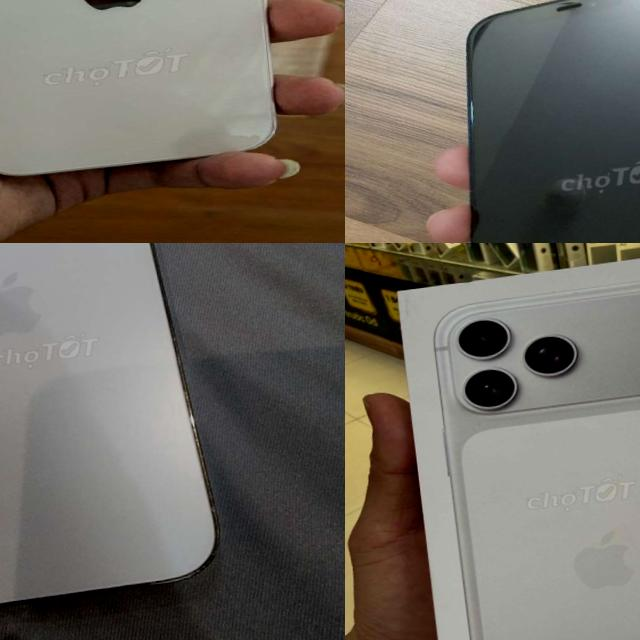gen_12_13: (0, 243, 226, 624), (0, 0, 294, 186), (418, 0, 640, 243)
gen_17: (413, 260, 640, 640)
